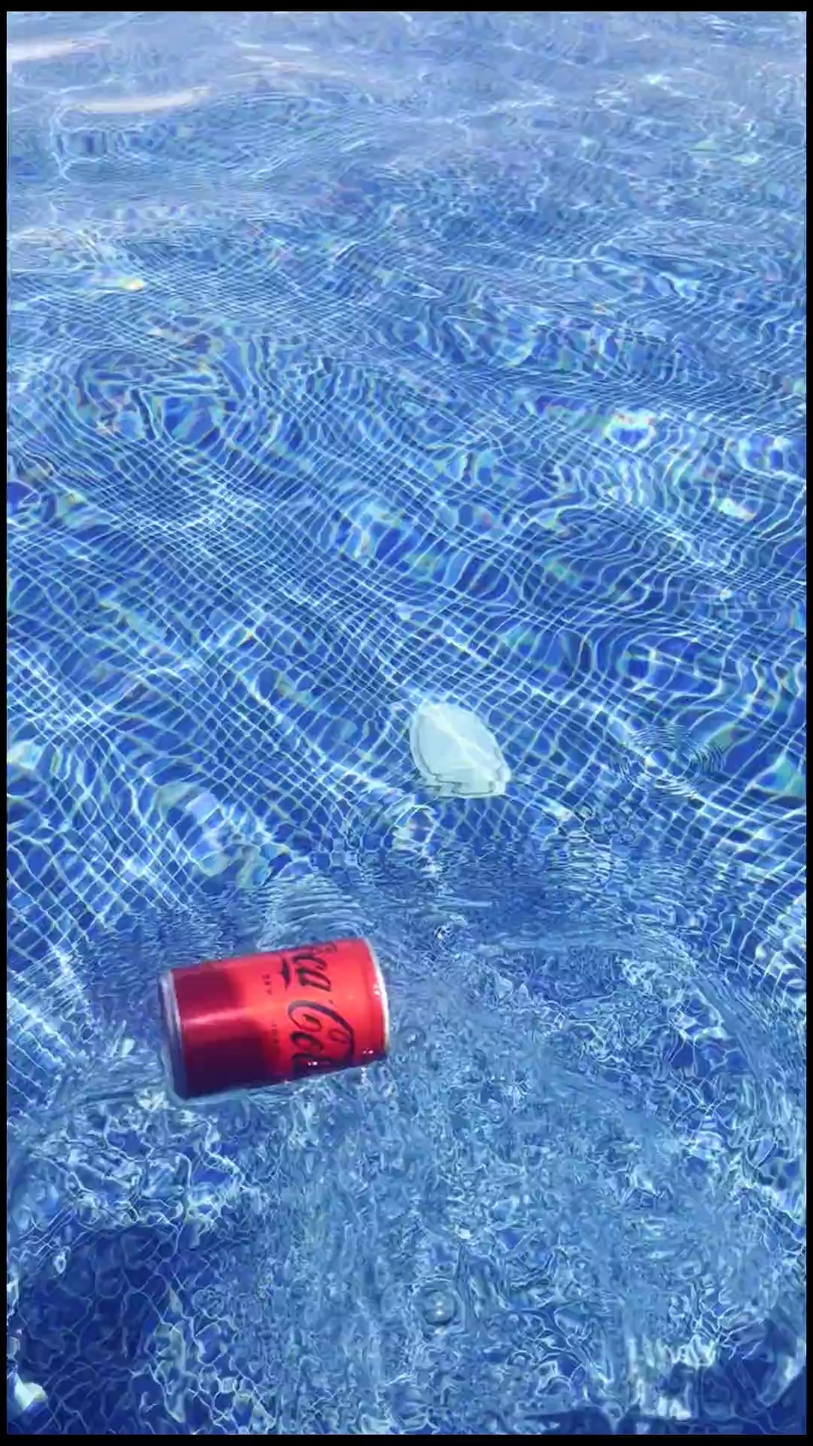debris: (157, 908, 391, 1103)
